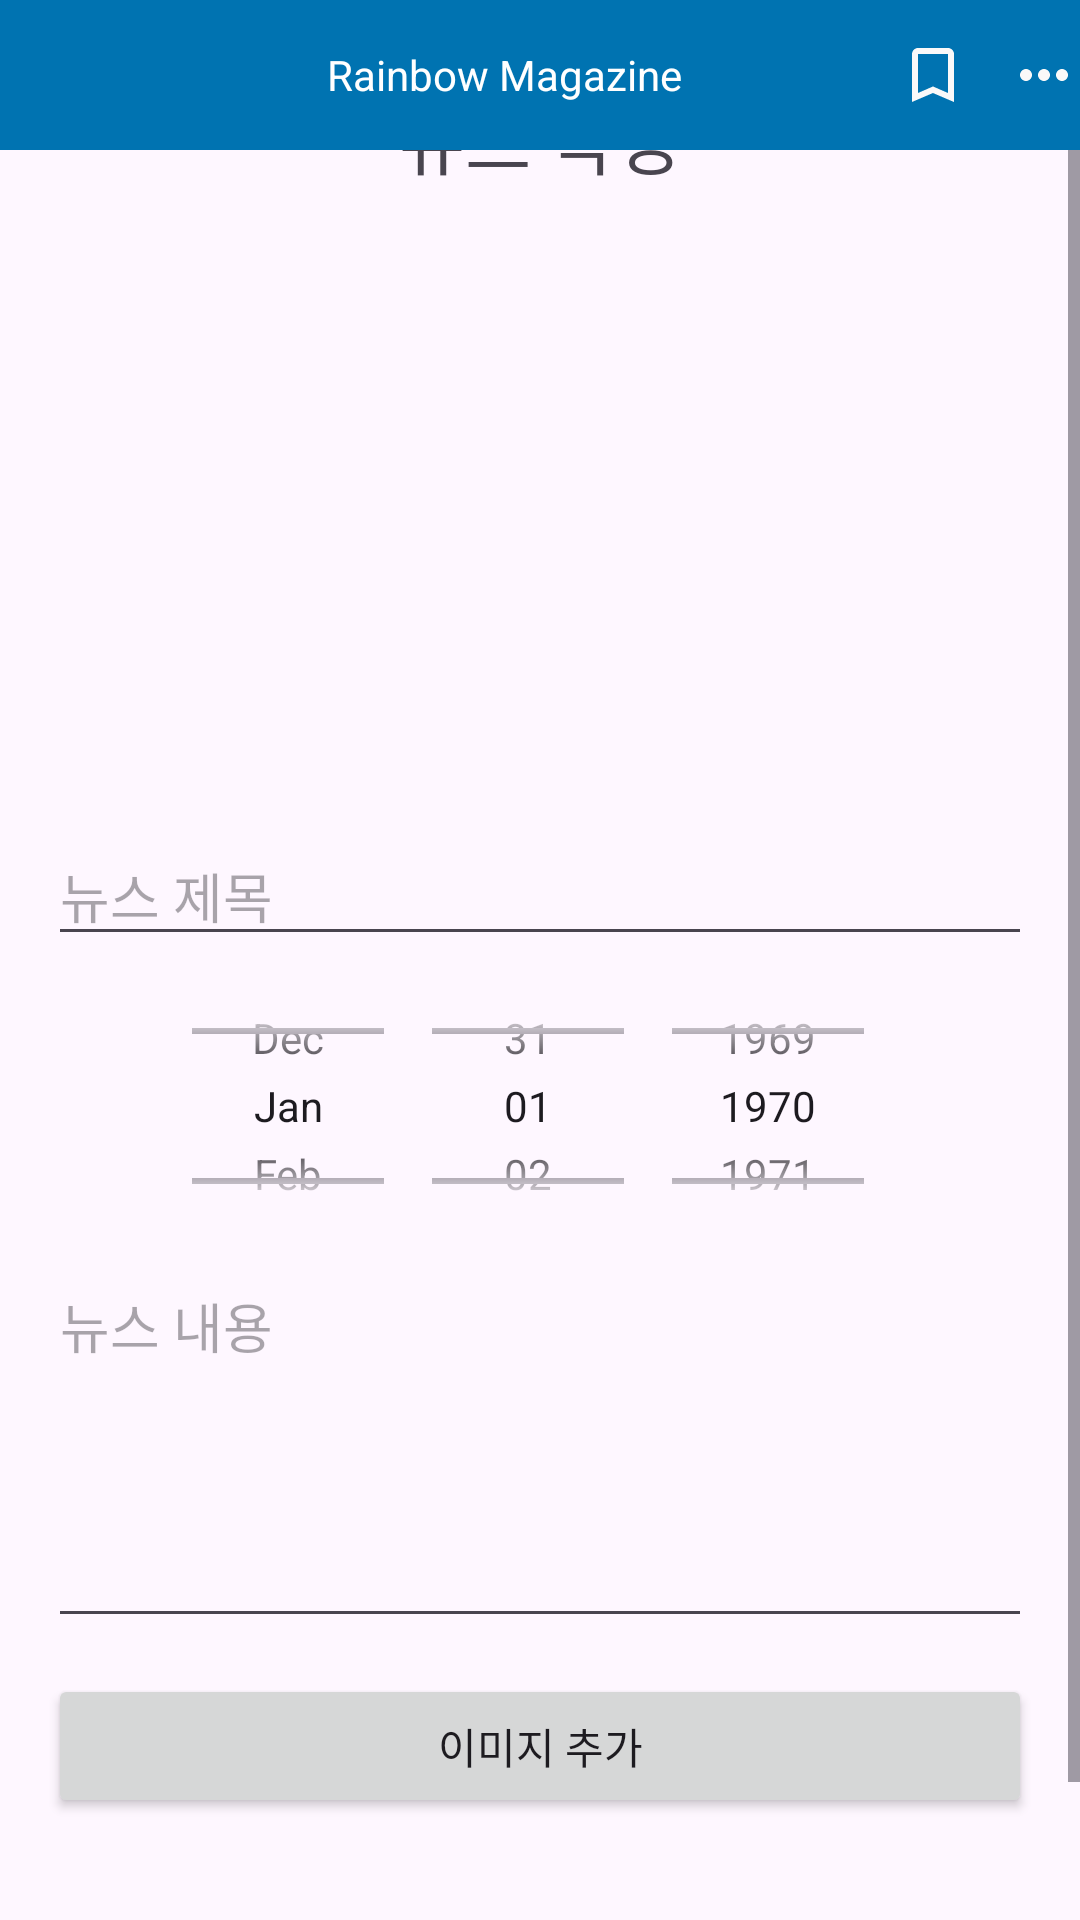

Named icons in this screenshot (1080*1920) and their bounding boxes, (x1, y1, x2, y2):
bookmark: (912, 48, 954, 102)
more horiz: (1020, 69, 1068, 81)
